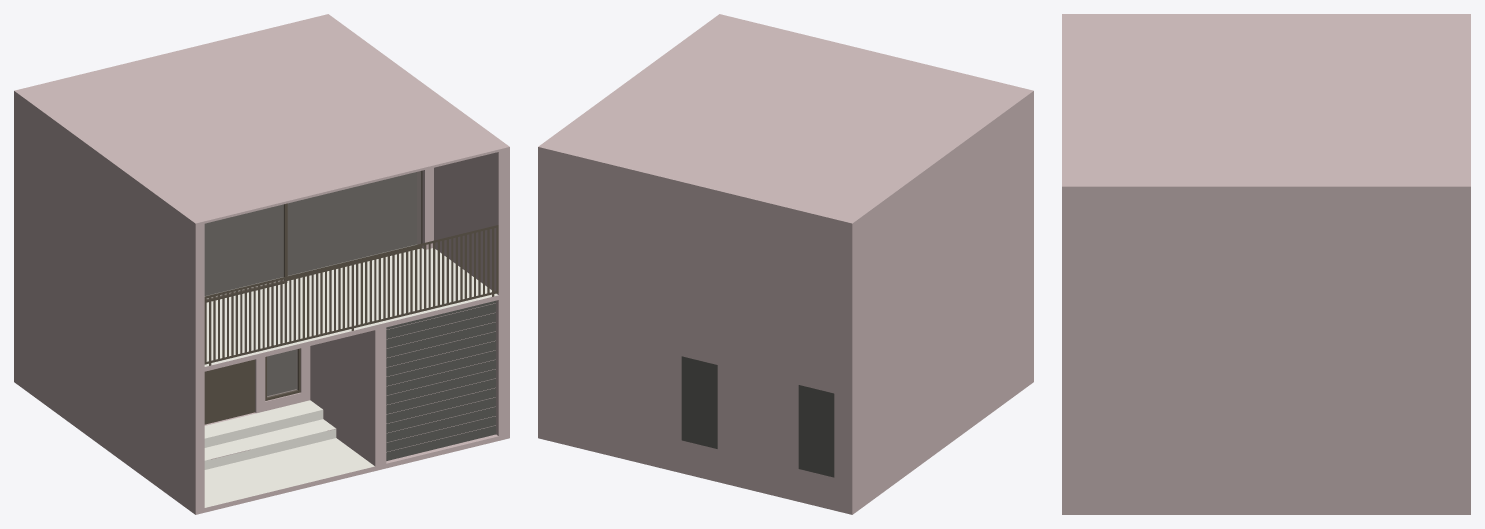
Rendered from House-4.fbx.
The picture shows the model from 3 angles, left to right: view 1: azimuth 30°, elevation 25°; view 2: azimuth 150°, elevation 25°; view 3: azimuth 270°, elevation 25°; orthographic projection. The views are drawn at different scales.
Parts seen in each view (by area): view 1: Cube; view 2: Cube; view 3: Cube.
Part boxes in pixels (<box>): Cube: <box>14,14,509,514</box>; Cube: <box>538,14,1033,514</box>; Cube: <box>1062,14,1470,514</box>.
Size of the model in its own units: 700 by 620 by 700.
